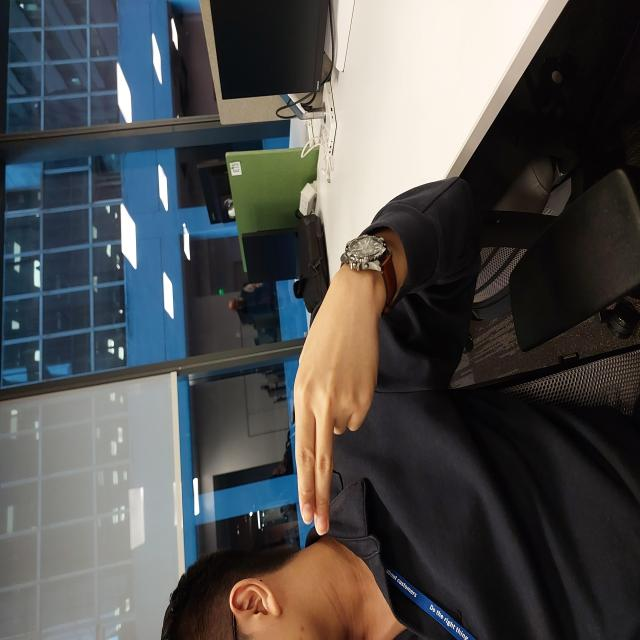H: (103, 294, 324, 378)
